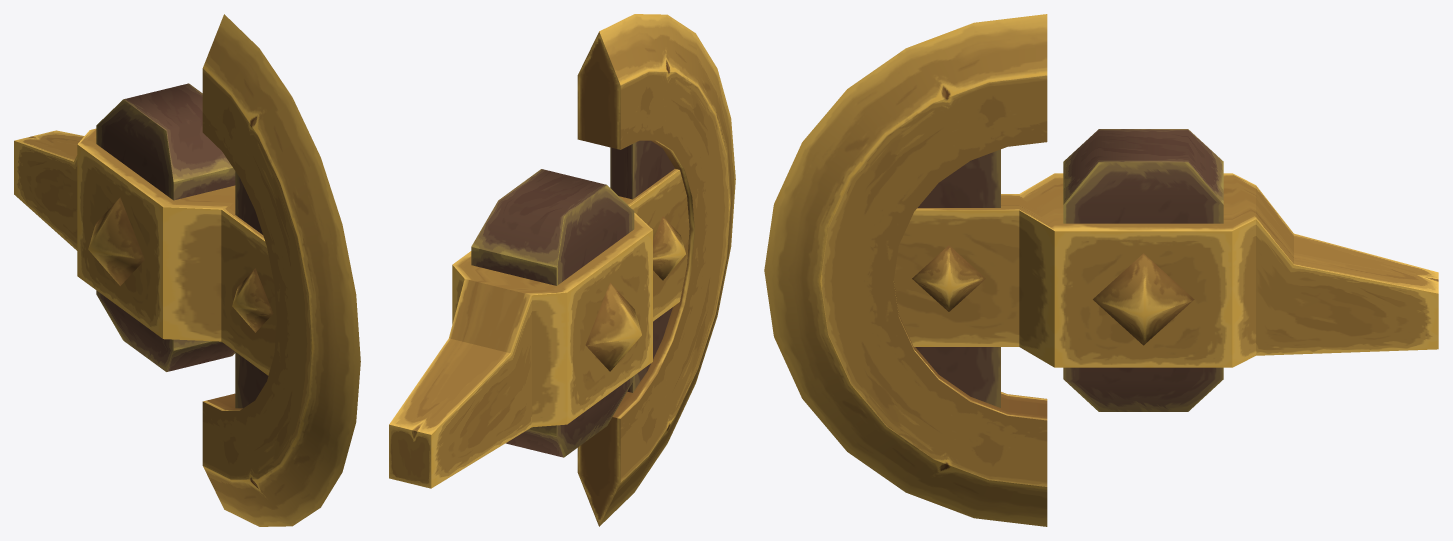
File: SM_WEP_head_axe_battle_28.fbx
The picture shows the model from 3 angles, left to right: view 1: azimuth 30°, elevation 25°; view 2: azimuth 150°, elevation 25°; view 3: azimuth 270°, elevation 25°; orthographic projection. The views are drawn at different scales.
Parts seen in each view (by area): view 1: SM_WEP_head_axe_battle_28; view 2: SM_WEP_head_axe_battle_28; view 3: SM_WEP_head_axe_battle_28.
Boxes of the visible parts, x1,y1,x2,y2 form: SM_WEP_head_axe_battle_28: (14,14,360,526); SM_WEP_head_axe_battle_28: (389,14,735,526); SM_WEP_head_axe_battle_28: (764,14,1438,526).
Bounding box in the file's own units: 19.47 × 51.49 × 61.34.
